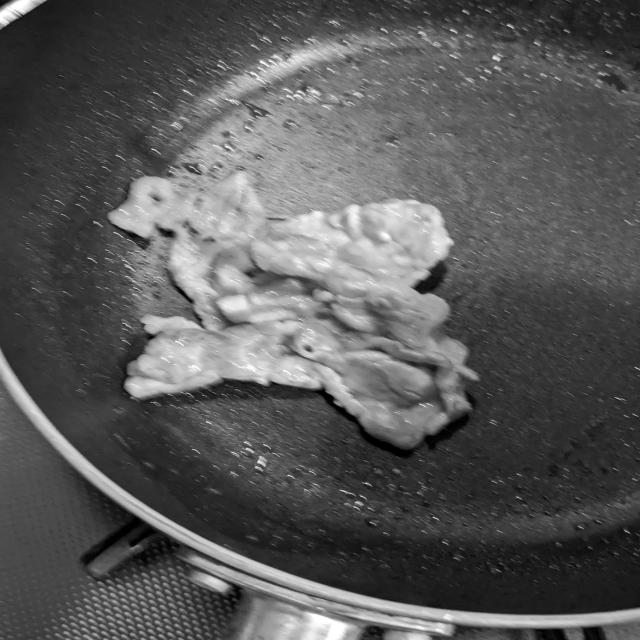NG undercooked pork,: (109, 166, 499, 461)
